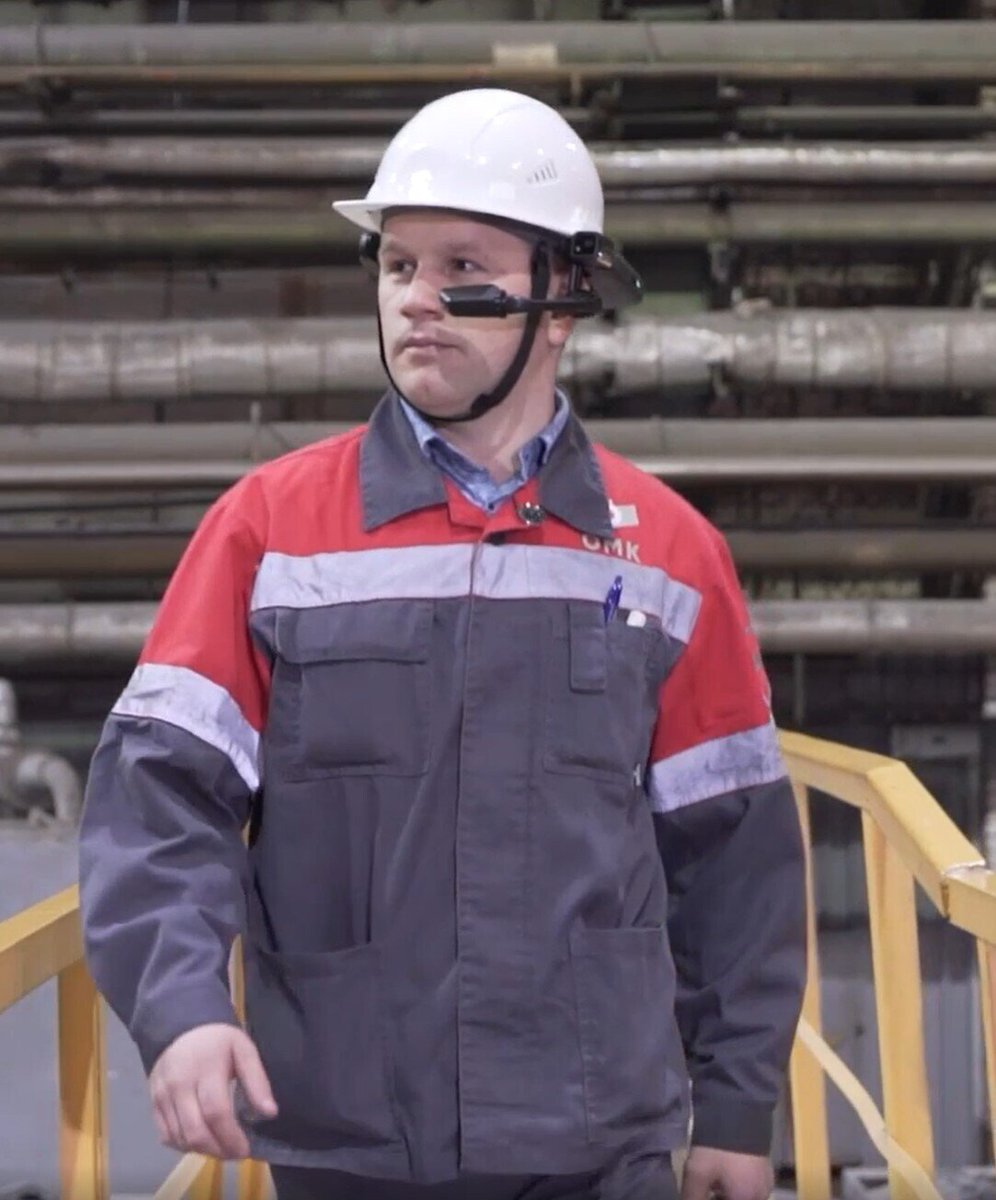person: (76, 89, 814, 1200)
